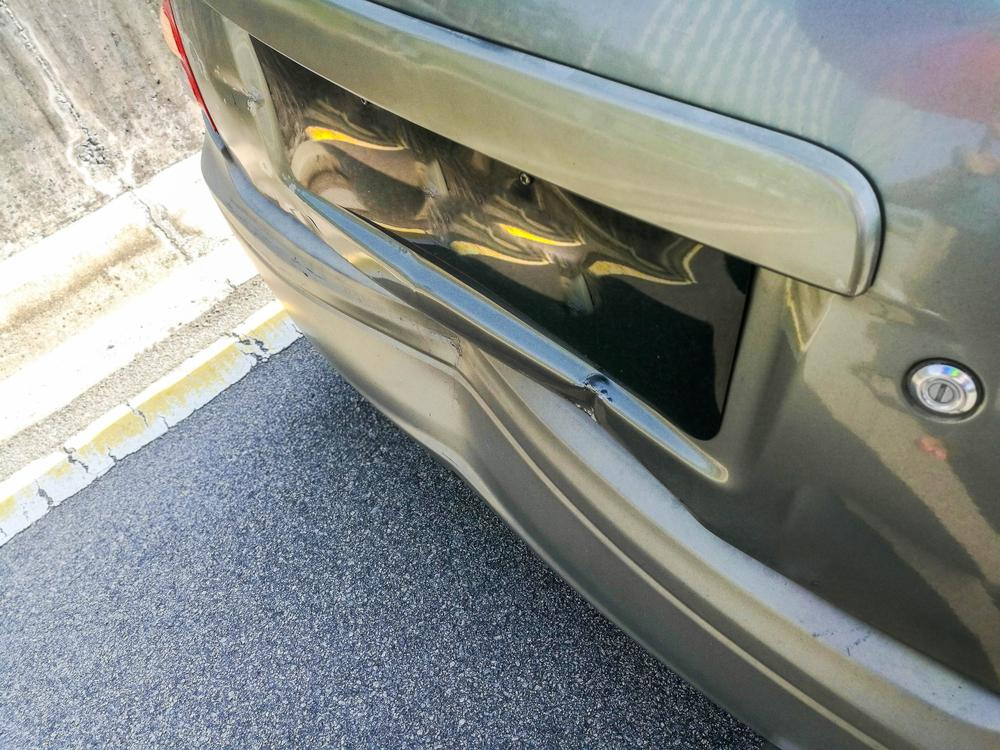dent: (344, 305, 483, 453)
